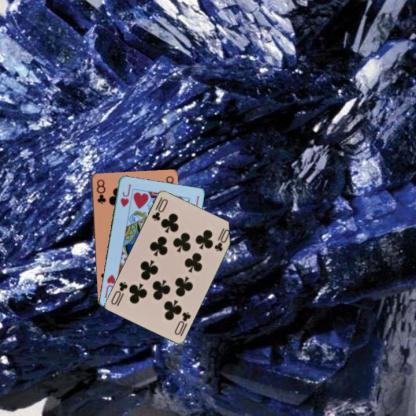10c: (172, 309, 192, 338), (149, 196, 169, 222)
8c: (93, 176, 107, 206)
Jh: (118, 181, 132, 208)
